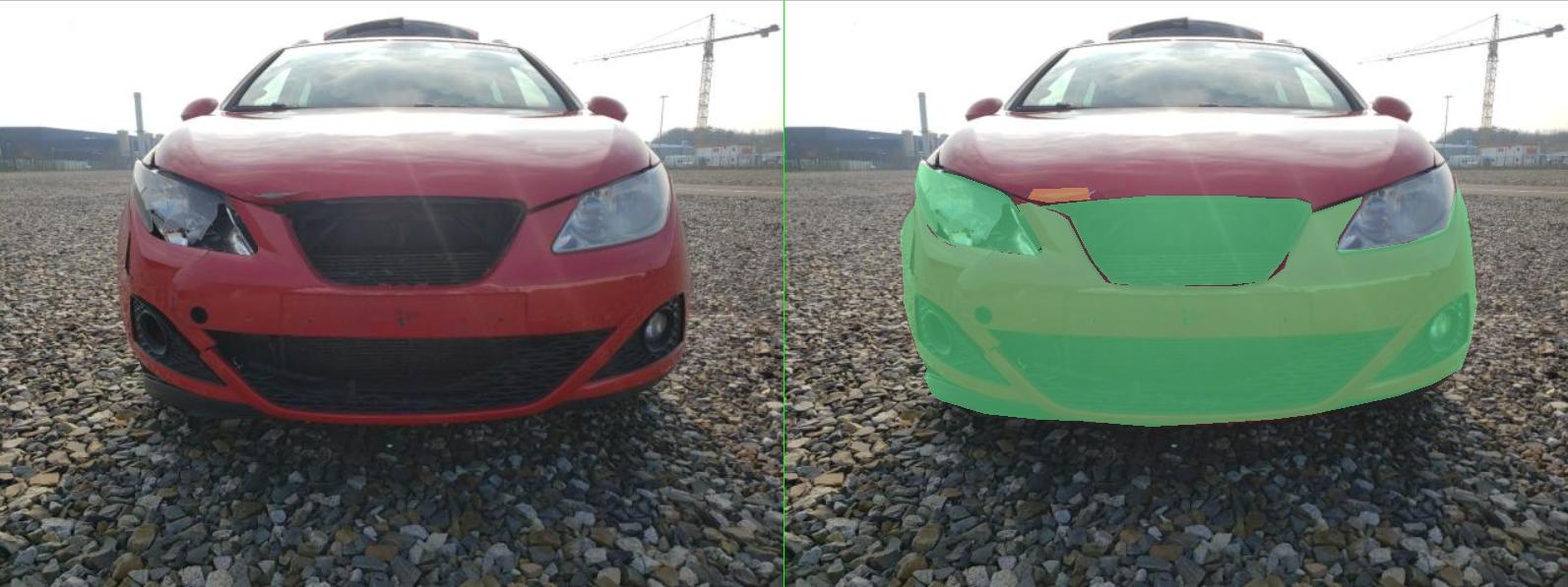Broken part: (232, 187, 1385, 426), (412, 328, 1231, 415), (506, 196, 1054, 285), (260, 163, 512, 255)
Missing part: (282, 314, 329, 353)
Paint chip: (487, 188, 611, 202)
Scratch: (502, 191, 621, 198)
